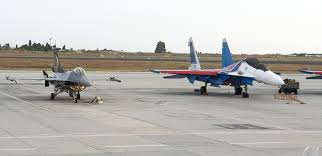maybay_muctieu: (159, 30, 281, 100), (12, 52, 121, 114)
